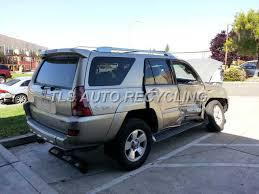doorouter-dent: (178, 79, 207, 119)
